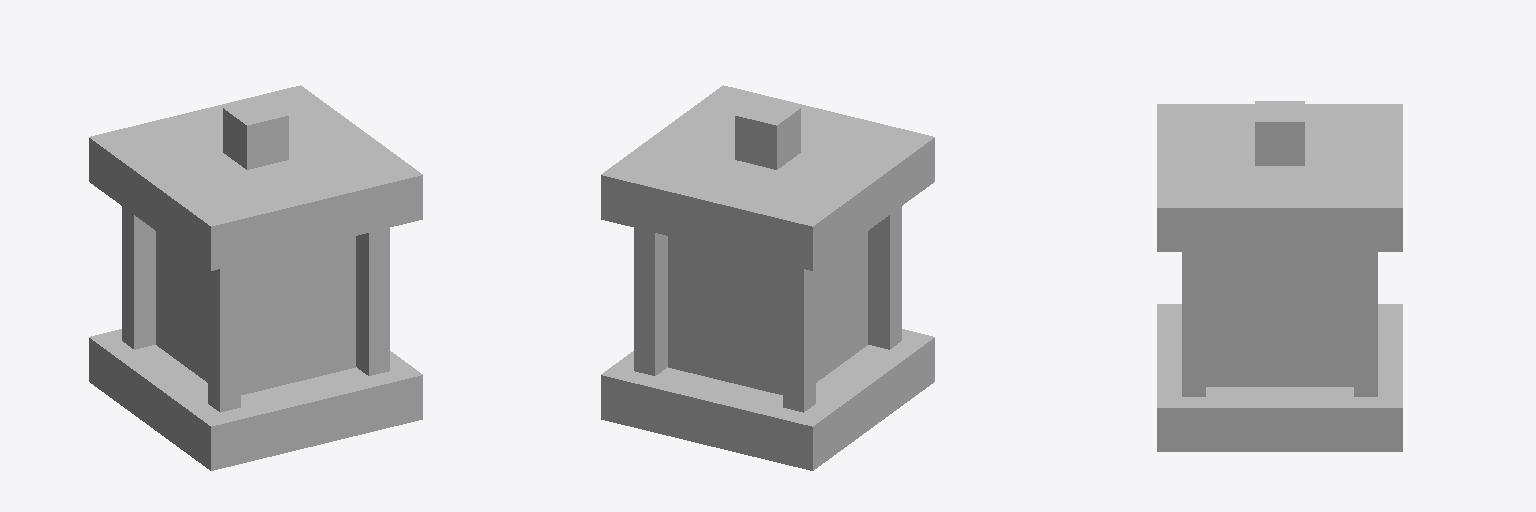
The model's file is lamp.obj.
3 renders of one model, left to right at view 1: azimuth 30°, elevation 25°; view 2: azimuth 150°, elevation 25°; view 3: azimuth 270°, elevation 25°, orthographic.
Visible parts, largest first — view 1: object 1; view 2: object 1; view 3: object 1.
Boxes of the visible parts, box(x1,y1,x2,y2) form: object 1: box(89, 85, 422, 470); object 1: box(601, 85, 934, 470); object 1: box(1157, 101, 1402, 451).
Size of the model in its own units: 1 by 1.3 by 1.